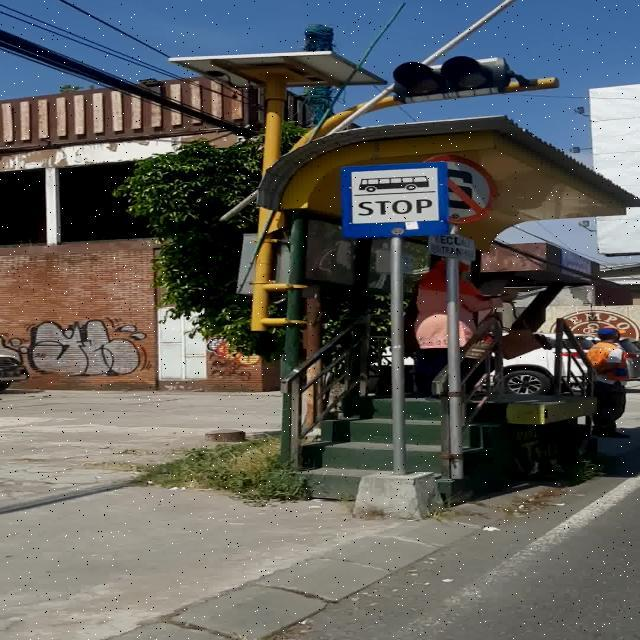Pemberhentian Bus: (342, 161, 451, 238)
